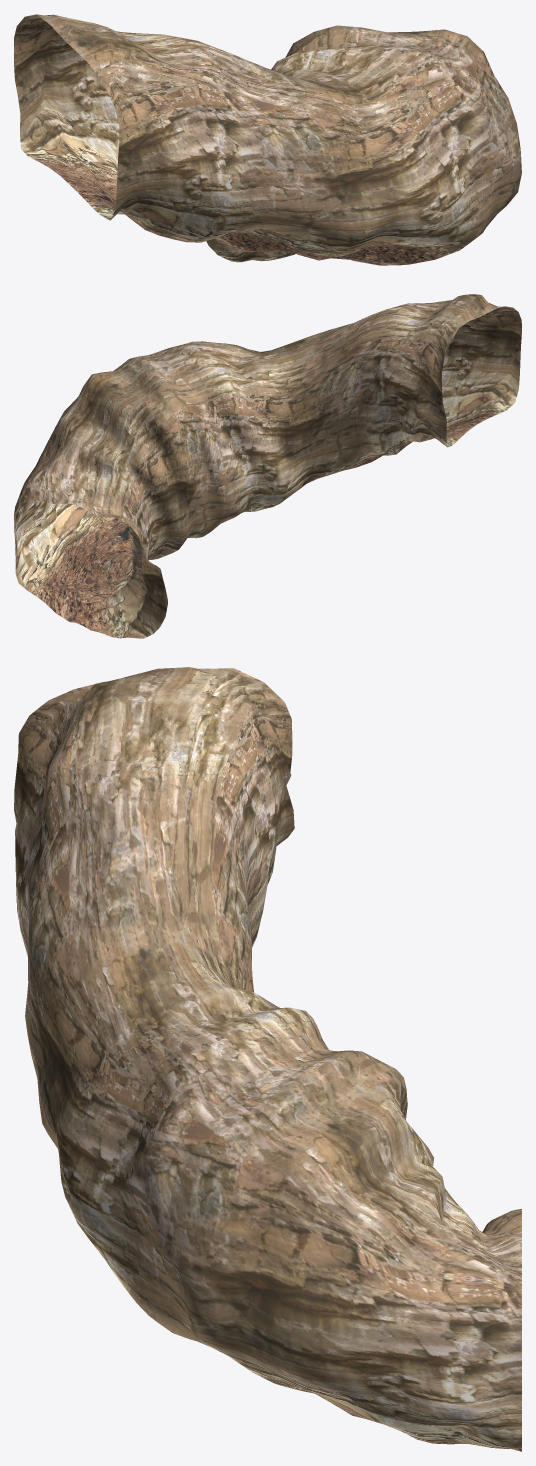
Rendered from thm_tato_cave_s02_r6_mesh_r6.fbx.
3 renders of one model, top to bottom at view 1: azimuth 30°, elevation 25°; view 2: azimuth 150°, elevation 25°; view 3: azimuth 270°, elevation 25°, orthographic. The views are drawn at different scales.
Visible parts, largest first — view 1: mesh_node; view 2: mesh_node; view 3: mesh_node.
Part boxes in pixels (bbox=[...]): mesh_node: bbox=[14, 14, 521, 265]; mesh_node: bbox=[14, 294, 521, 638]; mesh_node: bbox=[14, 667, 521, 1451].
Size of the model in its own units: 33 by 26.15 by 22.25.
